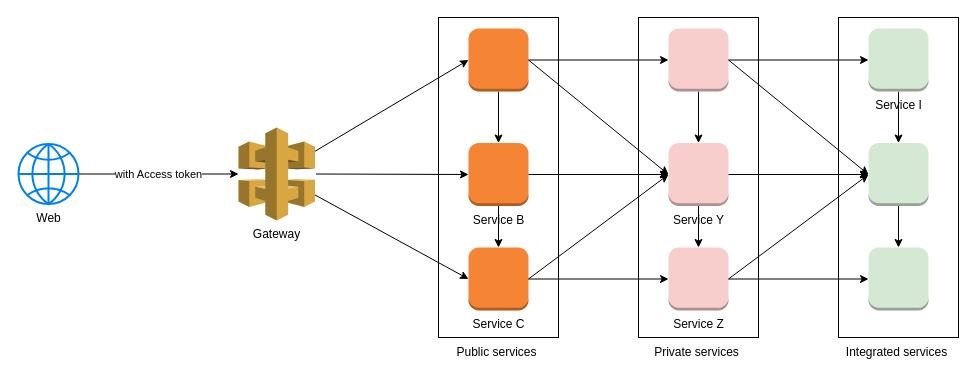
The diagram is 976 pixels wide and 385 high, and some of its shapes have lost their labels. Here are the shapes that lost their labels. From the top down, the box of each, then its label:
(468, 28, 528, 92): Service A
(668, 28, 728, 92): Service X
(868, 142, 928, 206): Service II
(868, 246, 928, 310): Service III
